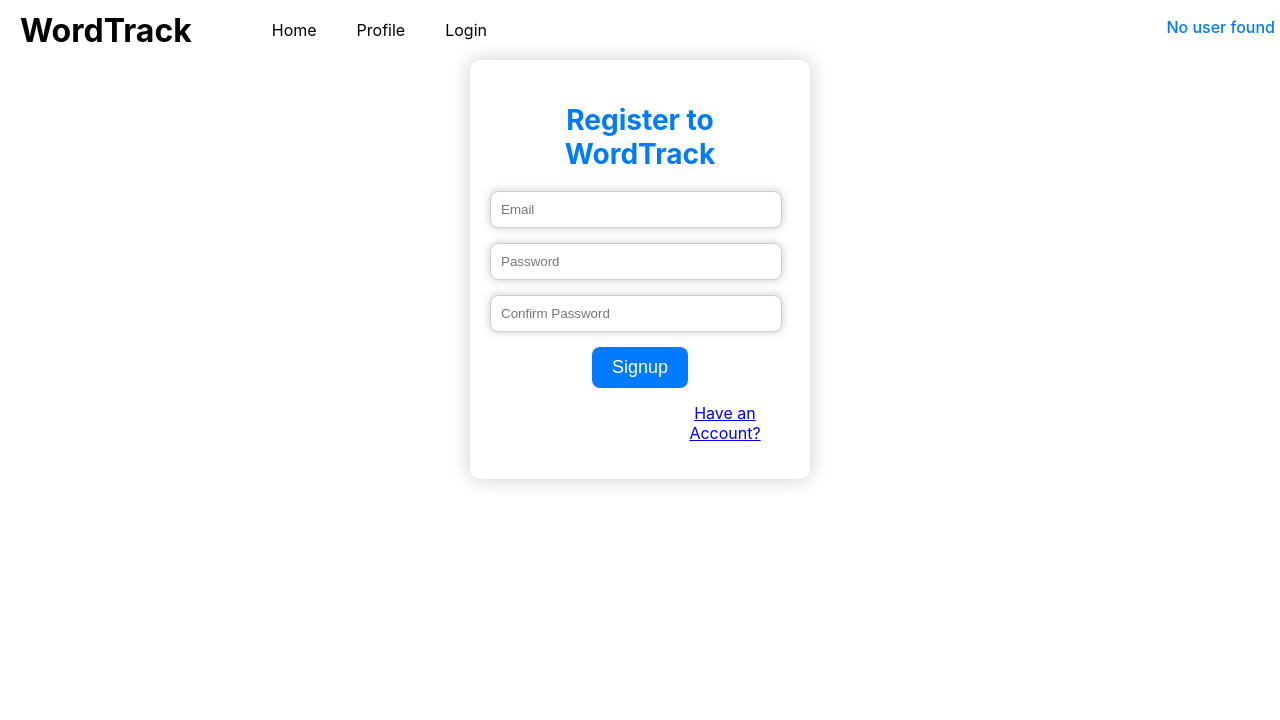
Test: invalid email input signup test: short email › should show error message and not redirect to home
This screenshot has width=1280, height=720.
Type "a" into the field with test id "input-text-email" at (636,210), box [490,191,782,228]
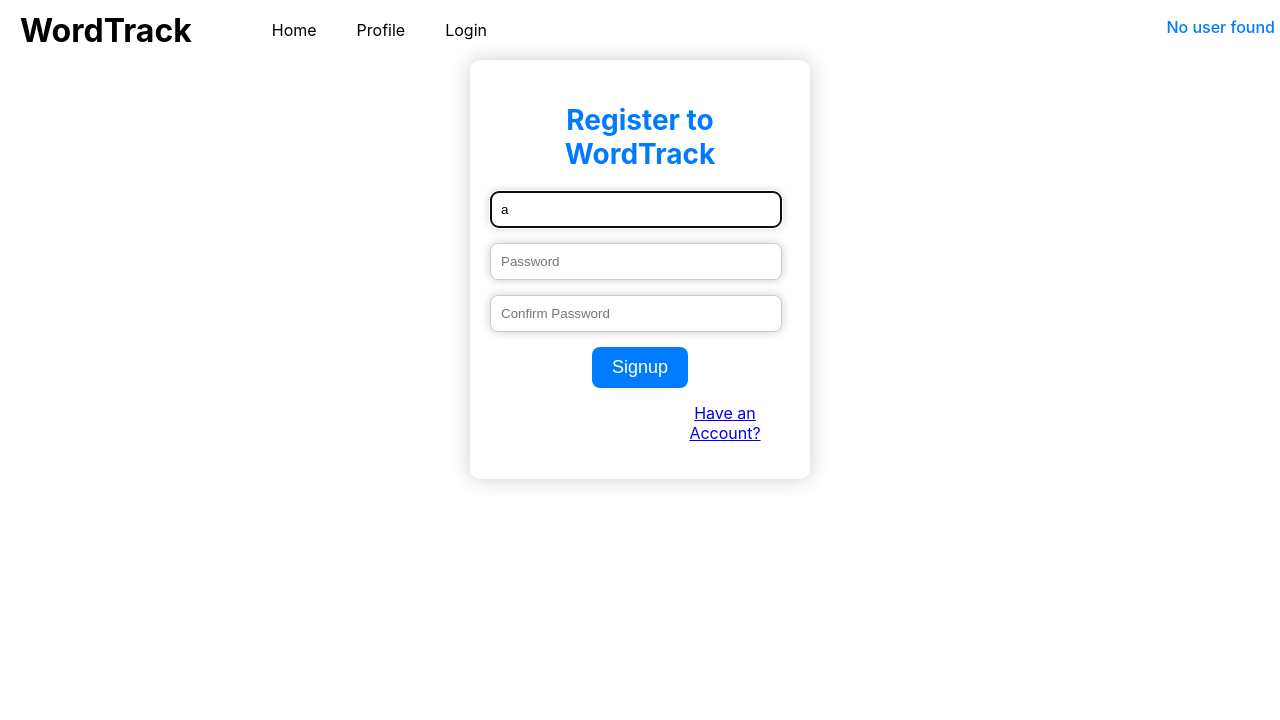
Type "hellothere" into the password field with test id "input-text-password" at (636,262), box [490,243,782,280]
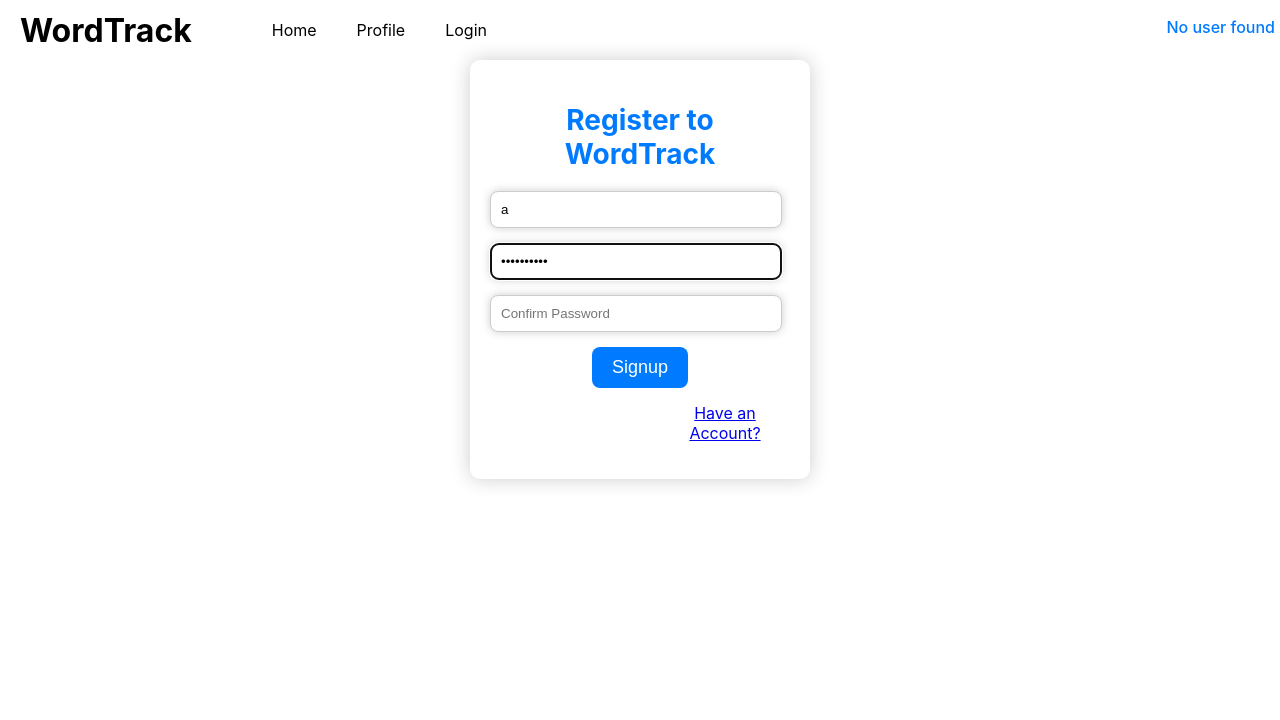
Click the button with test id "btn-signup" at (640,368), box [592,347,688,388]
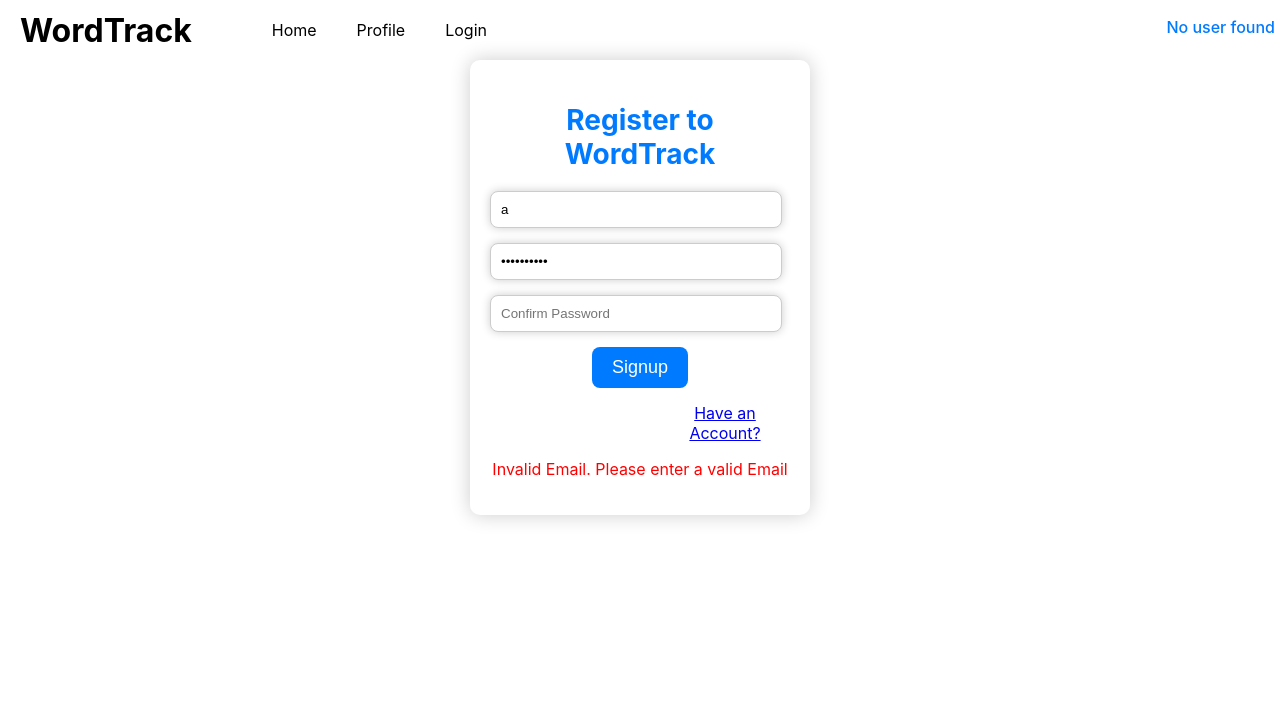
Result: the text "Invalid Email. Please enter a valid Email" is shown at [490,459,790,479]
